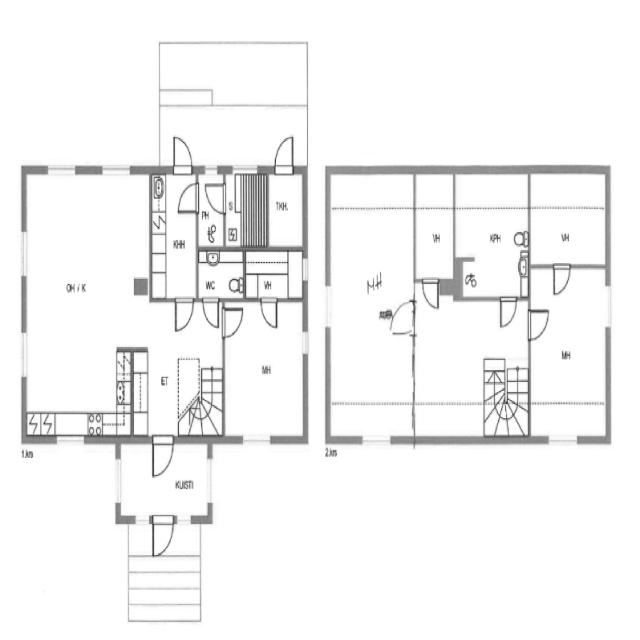door: (198, 168, 228, 228), (147, 511, 177, 562), (149, 432, 177, 483), (386, 298, 417, 341), (169, 132, 195, 182), (525, 302, 552, 345), (272, 132, 297, 177), (172, 294, 196, 336), (220, 302, 245, 342), (496, 290, 519, 332), (419, 272, 442, 313), (175, 180, 199, 216), (550, 261, 572, 299), (200, 294, 222, 332), (259, 294, 280, 332)
window: (542, 428, 584, 452), (237, 429, 277, 452), (42, 159, 80, 180), (600, 279, 614, 335), (98, 159, 134, 180), (357, 431, 396, 450), (18, 223, 30, 284), (18, 324, 30, 384), (49, 428, 89, 446), (322, 280, 334, 333), (298, 324, 310, 364), (113, 454, 122, 506), (173, 510, 195, 531), (231, 163, 263, 176), (200, 160, 221, 178), (207, 452, 214, 504), (300, 253, 310, 286)
zone: (22, 168, 144, 440), (328, 165, 417, 448), (413, 295, 529, 437), (528, 264, 610, 439), (224, 299, 306, 442), (455, 167, 530, 295), (116, 432, 213, 523), (529, 170, 607, 267), (118, 440, 211, 516), (148, 166, 196, 304), (414, 170, 455, 281), (222, 167, 267, 247), (244, 246, 306, 299), (268, 170, 306, 247), (195, 245, 247, 299), (198, 167, 226, 245)
